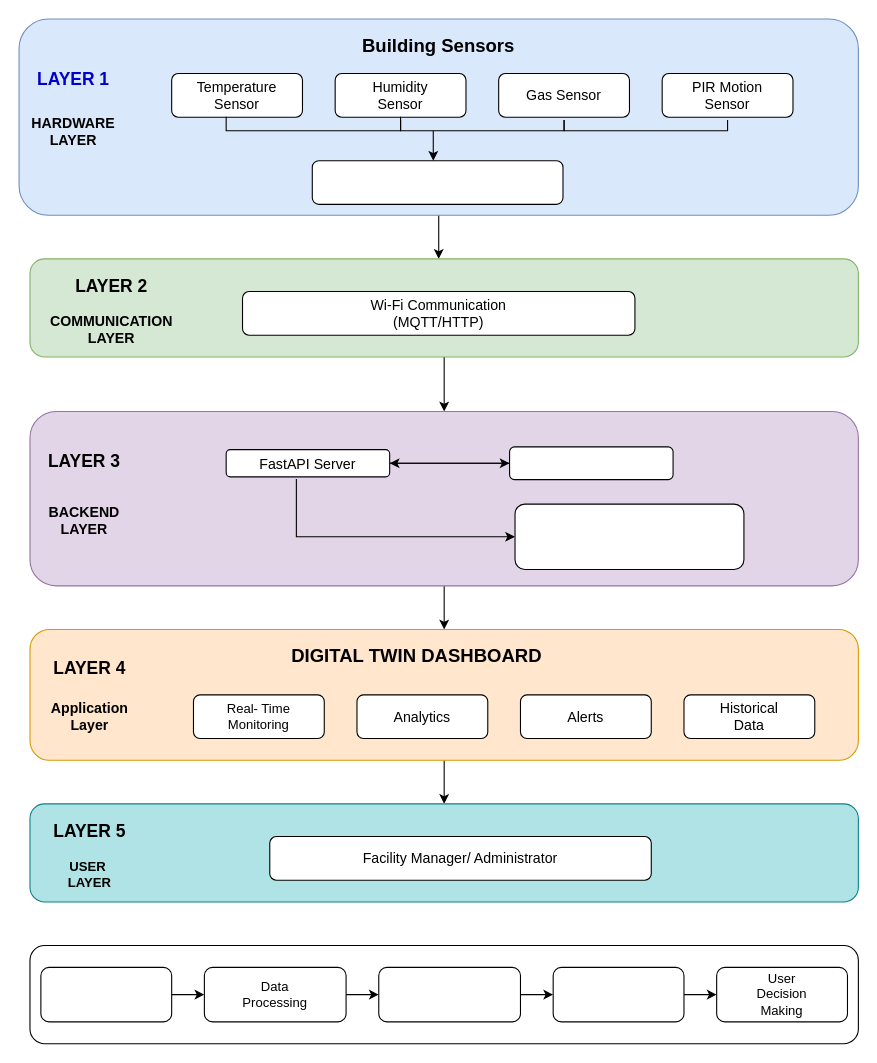
Some shapes in this 877 by 1063 pixel diagram are drawn without their labels. Here are the shapes that lost their labels. From the top down, the box of each, then its label:
(311, 160, 563, 204): ESP 32
(508, 446, 673, 480): MongoDB Database
(514, 503, 744, 570): AI ENGINE (Machine Learning, Anomaly Detection, Prediction)
(40, 966, 172, 1022): Sensor Dtata
(378, 966, 520, 1022): AI Analysis
(552, 966, 684, 1022): Digital Twin Visualization
